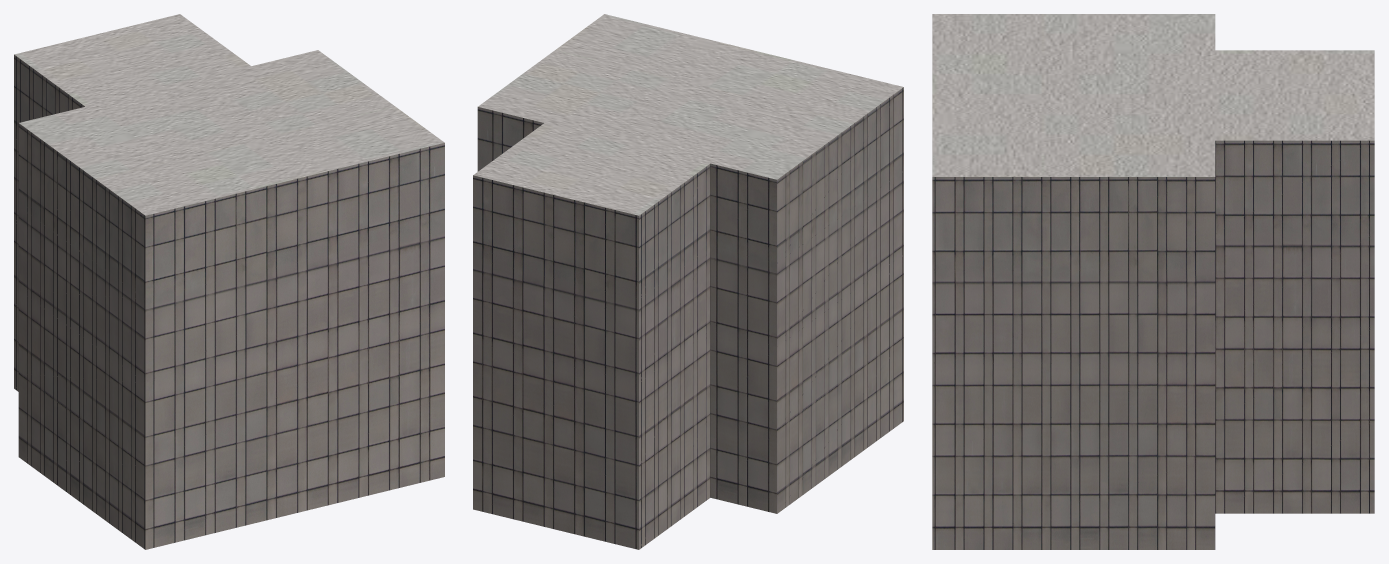
File: building_015.glb
3 renders of one model, left to right at view 1: azimuth 30°, elevation 25°; view 2: azimuth 150°, elevation 25°; view 3: azimuth 270°, elevation 25°, orthographic. The views are drawn at different scales.
Visible parts, largest first — view 1: building_015; view 2: building_015; view 3: building_015.
Boxes of the visible parts, x1,y1,x2,y2 form: building_015: [14, 14, 444, 549]; building_015: [473, 14, 903, 549]; building_015: [932, 14, 1374, 549].
Bounding box in the file's own units: 1500 × 1600 × 1719.
2 materials, 2 textured.
